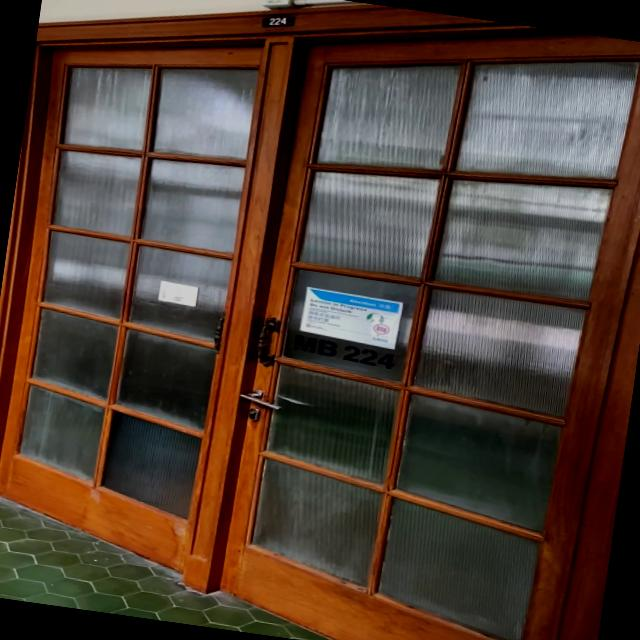room224: (260, 11, 300, 33)
room224Window: (288, 333, 403, 376)
